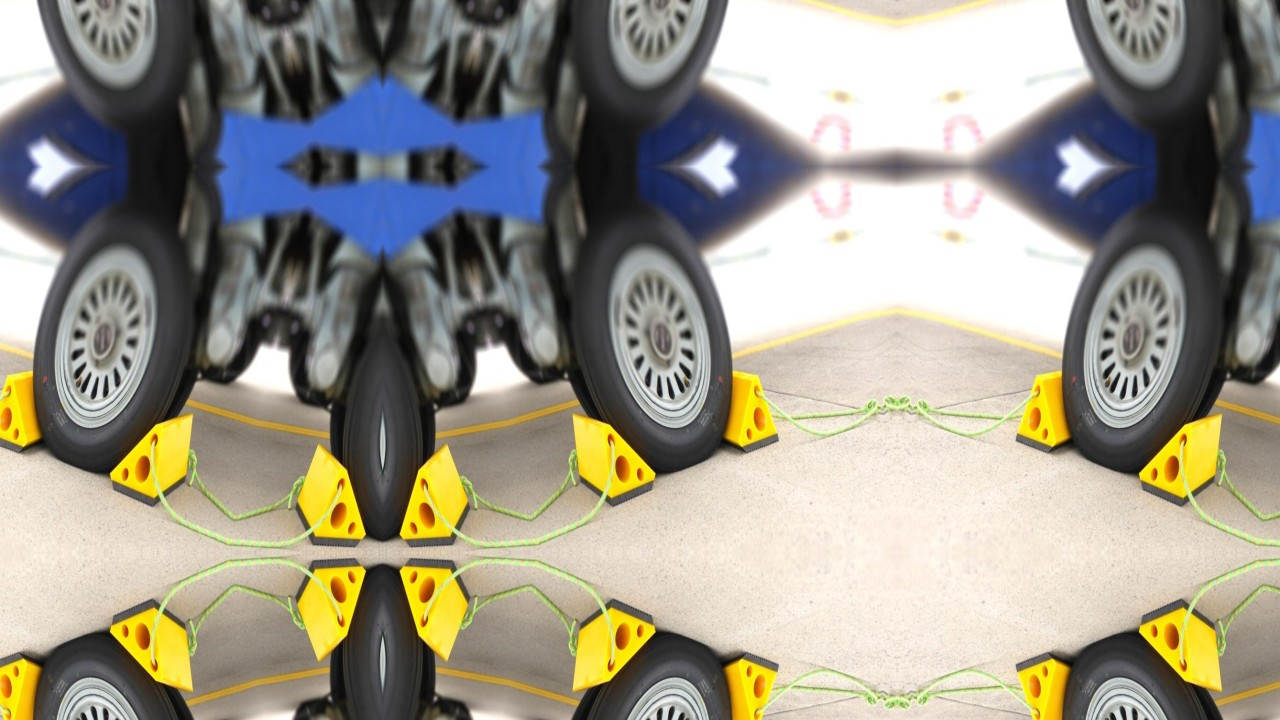chock: (103, 397, 200, 513), (565, 397, 662, 513), (1133, 397, 1230, 513), (103, 593, 200, 709), (565, 593, 662, 709), (1133, 593, 1230, 709), (382, 441, 477, 553), (382, 553, 477, 665), (288, 441, 382, 553), (288, 553, 382, 665), (706, 362, 782, 458), (1013, 362, 1089, 458), (0, 362, 59, 458), (706, 648, 782, 720), (1013, 648, 1089, 720), (0, 648, 59, 720)
wheel: (8, 191, 215, 486), (550, 191, 757, 486), (1038, 191, 1245, 486), (8, 0, 215, 142), (550, 0, 757, 142), (1038, 0, 1245, 142), (8, 620, 215, 720), (550, 620, 757, 720), (1038, 620, 1245, 720)
